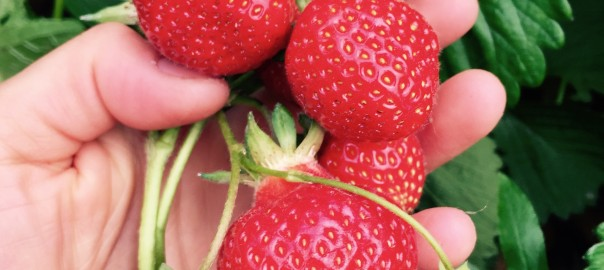ripe: (197, 158, 429, 266), (284, 2, 451, 143), (312, 112, 441, 219), (127, 2, 303, 80)
